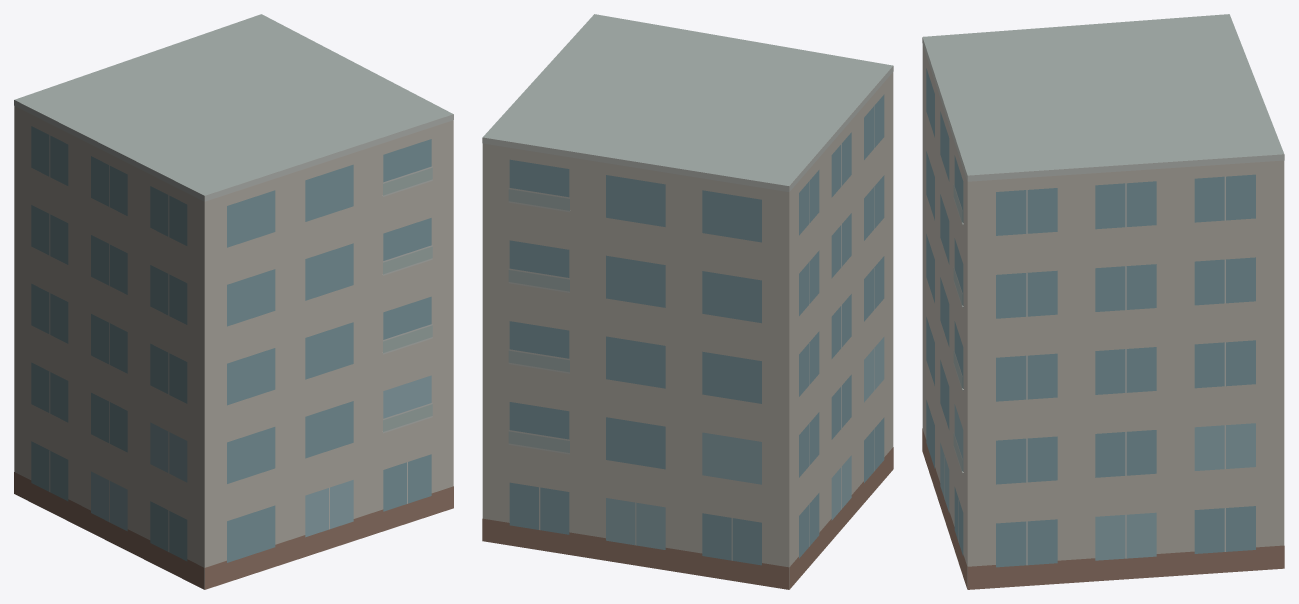
The model's file is survey-upis-32718710.glb.
3 renders of one model, left to right at view 1: azimuth 30°, elevation 25°; view 2: azimuth 150°, elevation 25°; view 3: azimuth 270°, elevation 25°, orthographic. The views are drawn at different scales.
Parts seen in each view (by area): view 1: survey-upis-32718710.tmp; view 2: survey-upis-32718710.tmp; view 3: survey-upis-32718710.tmp.
Boxes of the visible parts, <box> form: survey-upis-32718710.tmp: <box>14,14,453,589</box>; survey-upis-32718710.tmp: <box>482,14,893,589</box>; survey-upis-32718710.tmp: <box>922,14,1284,589</box>.
Bounding box in the file's own units: 13.64 × 16.3 × 12.92.
